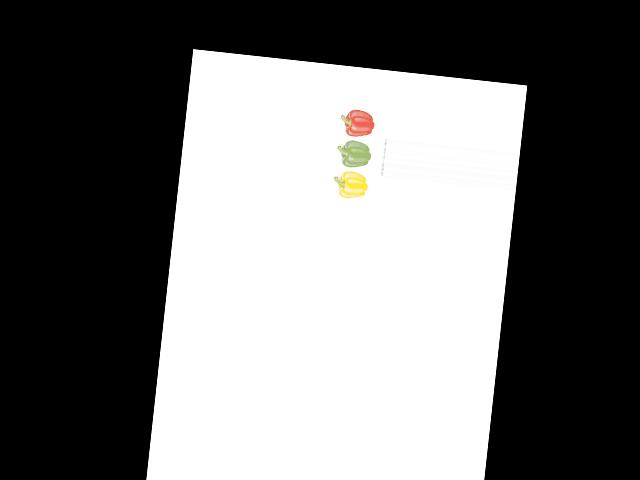bell_pepper: (332, 167, 372, 201)
